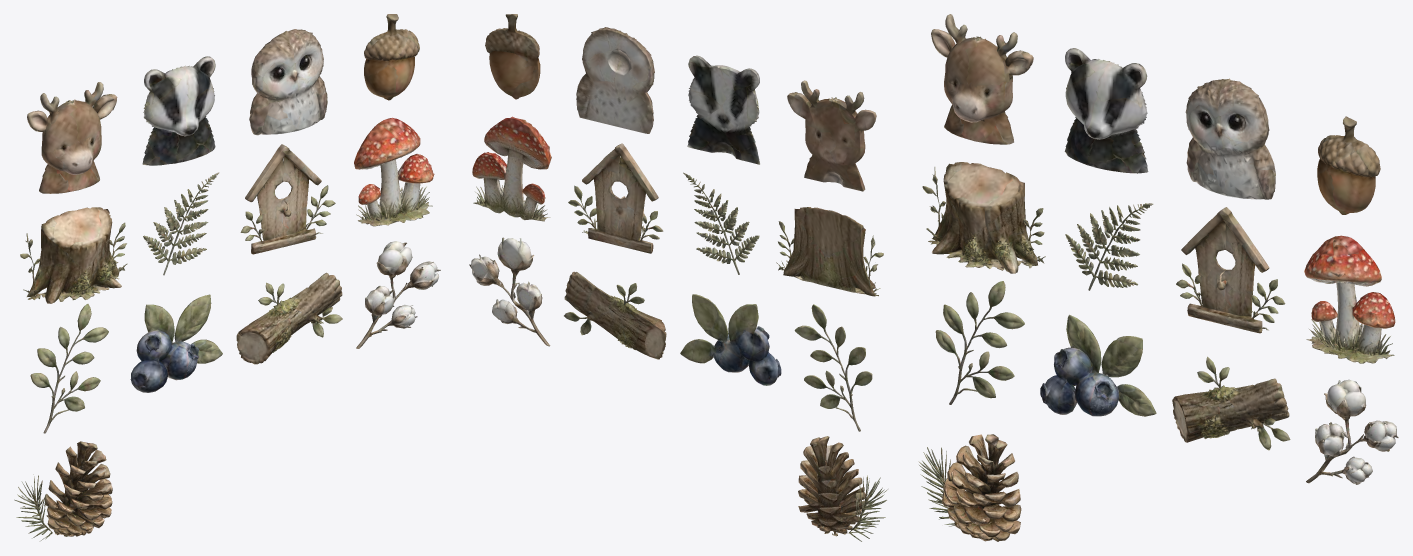
3 views of the same model, side by side, from view 1: azimuth 30°, elevation 25°; view 2: azimuth 150°, elevation 25°; view 3: azimuth 330°, elevation 25° (orthographic). The views are drawn at different scales.
Parts seen in each view (by area): view 1: Mesh 2, Mesh 11, Mesh 7, Mesh 3, Mesh 13, Mesh 10, Mesh 1, Mesh 5, Mesh 9, Mesh 15, Mesh 14, Mesh 4 (+1 smaller); view 2: Mesh 11, Mesh 2, Mesh 7, Mesh 3, Mesh 13, Mesh 1, Mesh 10, Mesh 5, Mesh 9, Mesh 14, Mesh 15, Mesh 4 (+1 smaller); view 3: Mesh 2, Mesh 11, Mesh 7, Mesh 3, Mesh 13, Mesh 10, Mesh 1, Mesh 5, Mesh 9, Mesh 15, Mesh 14, Mesh 4 (+1 smaller).
Part boxes in pixels (x1,y1,x2,y2): Mesh 2: (20, 207, 127, 303); Mesh 11: (249, 29, 327, 135); Mesh 7: (142, 56, 215, 165); Mesh 3: (27, 82, 117, 193); Mesh 13: (354, 117, 434, 226); Mesh 10: (240, 144, 335, 254); Mesh 1: (14, 441, 112, 541); Mesh 5: (130, 294, 222, 392); Mesh 9: (236, 272, 342, 364); Mesh 15: (364, 14, 419, 100); Mesh 14: (356, 241, 440, 348); Mesh 4: (30, 304, 108, 433); Mesh 11: (576, 27, 654, 133); Mesh 2: (776, 207, 883, 296); Mesh 7: (687, 55, 759, 164); Mesh 3: (787, 80, 876, 191); Mesh 13: (472, 116, 551, 221); Mesh 1: (798, 436, 887, 541); Mesh 10: (568, 143, 663, 253); Mesh 5: (680, 294, 781, 385); Mesh 9: (564, 271, 666, 359); Mesh 14: (469, 237, 550, 346); Mesh 15: (485, 14, 540, 99); Mesh 4: (794, 304, 872, 431); Mesh 2: (922, 162, 1045, 273); Mesh 11: (1185, 78, 1275, 199); Mesh 7: (1064, 48, 1148, 173); Mesh 3: (931, 14, 1033, 144); Mesh 13: (1304, 235, 1395, 363); Mesh 10: (1176, 207, 1285, 333); Mesh 1: (918, 434, 1021, 541); Mesh 5: (1040, 314, 1156, 416); Mesh 9: (1172, 356, 1290, 450); Mesh 15: (1317, 116, 1380, 214); Mesh 14: (1306, 379, 1398, 484); Mesh 4: (935, 281, 1024, 404).
Bounding box in the file's own units: 1.84 × 1.88 × 0.1237.
Materials: 13 (13 with a texture image).
